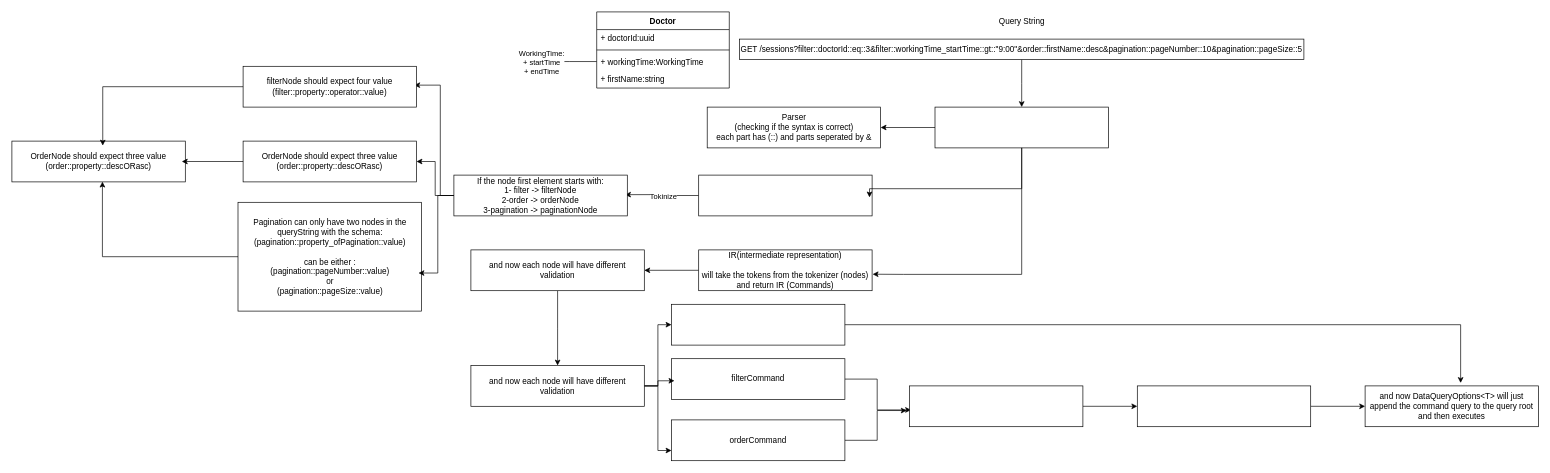
This 1550x473 diagram has some shape labels left out. The box of each missing label's shape, as (x1, y1, x2, y2) in pixels:
ICompiler<T> here we are using a doctor as example: (934, 106, 1108, 148)
pagination Command will consider the pageSize to not exceed the limit: (671, 304, 845, 345)
Tokenizer Seperate queryString into nodes where each node has a defining element: (698, 174, 872, 216)
will check if the property is found: (909, 385, 1083, 427)
Will use reflection to create expressions for the ef to convert to sql queries: (1137, 385, 1311, 427)
